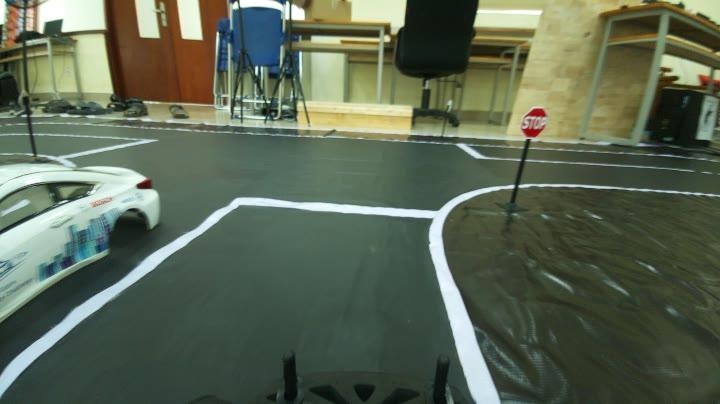car: (1, 142, 164, 270)
stop: (520, 102, 550, 140)
